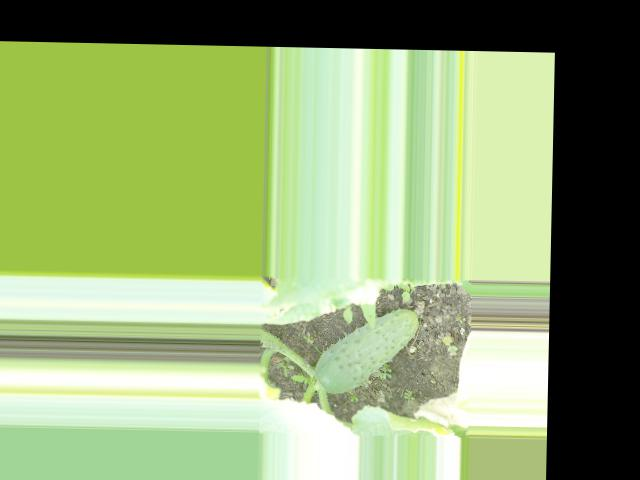cucumber: (313, 306, 418, 395)
